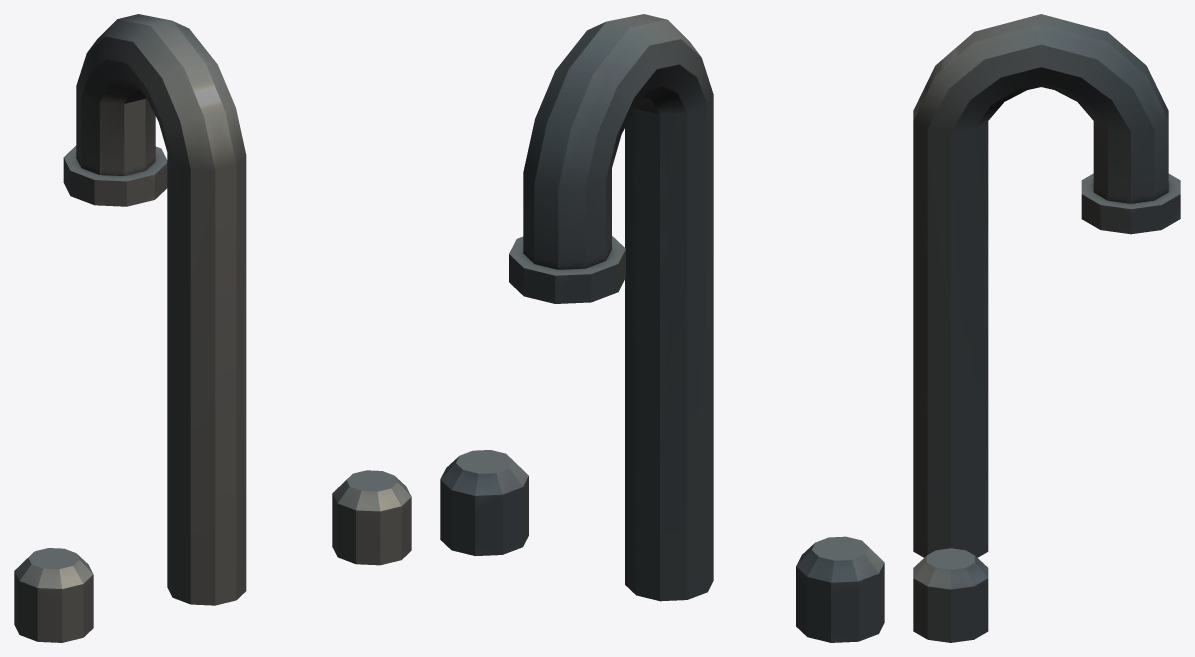
The model's file is Tap.fbx.
3 renders of one model, left to right at view 1: azimuth 30°, elevation 25°; view 2: azimuth 150°, elevation 25°; view 3: azimuth 270°, elevation 25°, orthographic. The views are drawn at different scales.
Parts seen in each view (by area): view 1: polySurface94; view 2: polySurface94; view 3: polySurface94.
Part boxes in pixels (<box>): polySurface94: <box>14,14,411,642</box>; polySurface94: <box>440,14,884,642</box>; polySurface94: <box>913,14,1180,642</box>.
Size of the model in its own units: 5.96 by 7.84 by 3.6.
Materials: 1 (1 with a texture image).
